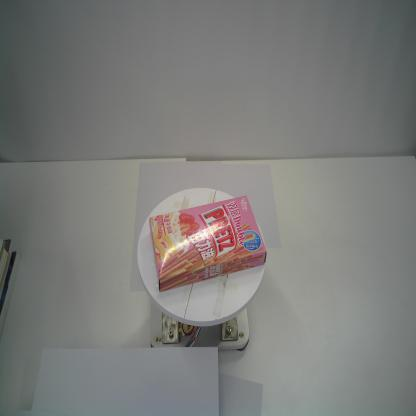Dessert: (149, 194, 267, 296)
